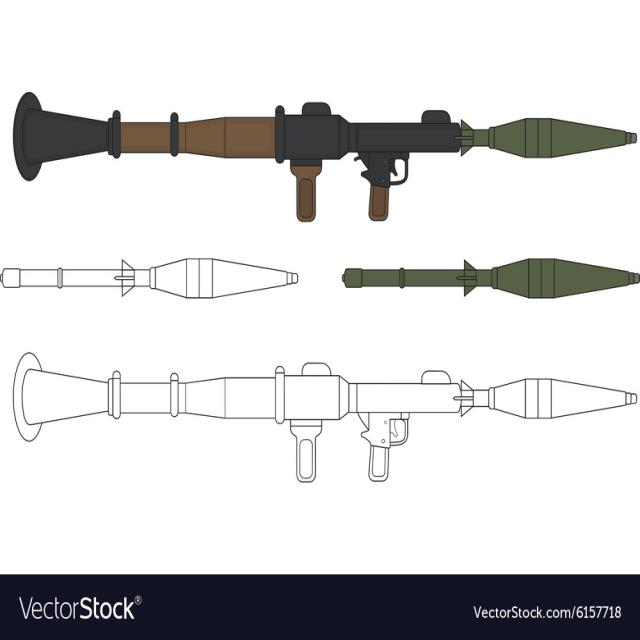bazooka: (5, 64, 639, 230)
